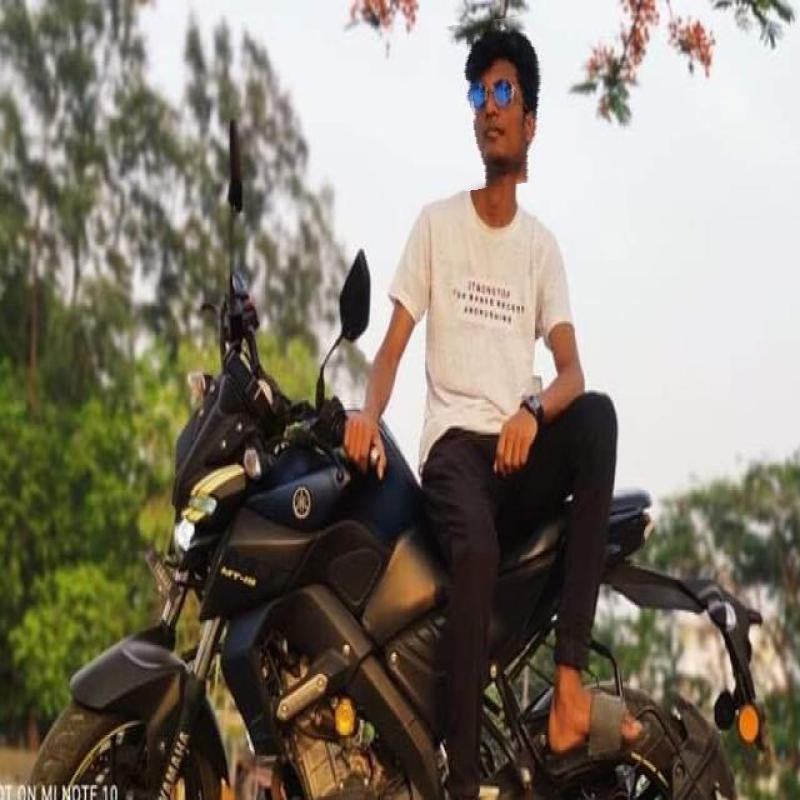nohelmet: (447, 16, 562, 188)
